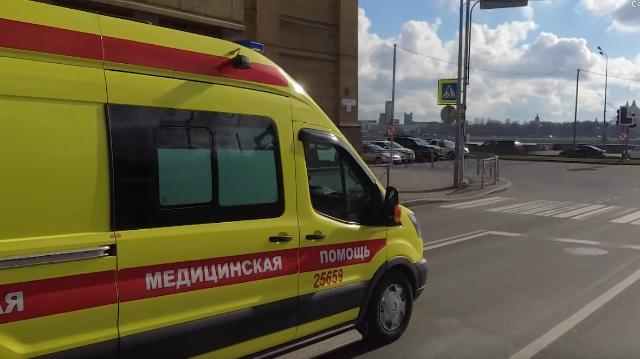intensive care unit: (1, 1, 431, 359)
non emergency car: (389, 140, 442, 163), (375, 142, 417, 163), (560, 146, 609, 161), (481, 140, 524, 157), (436, 140, 469, 159), (366, 146, 400, 164)
